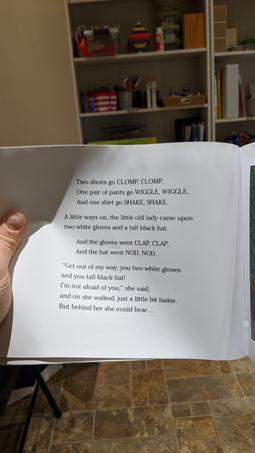text block: (50, 172, 204, 320)
